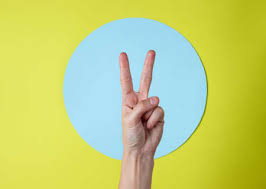peace_sign: (115, 45, 170, 156)
